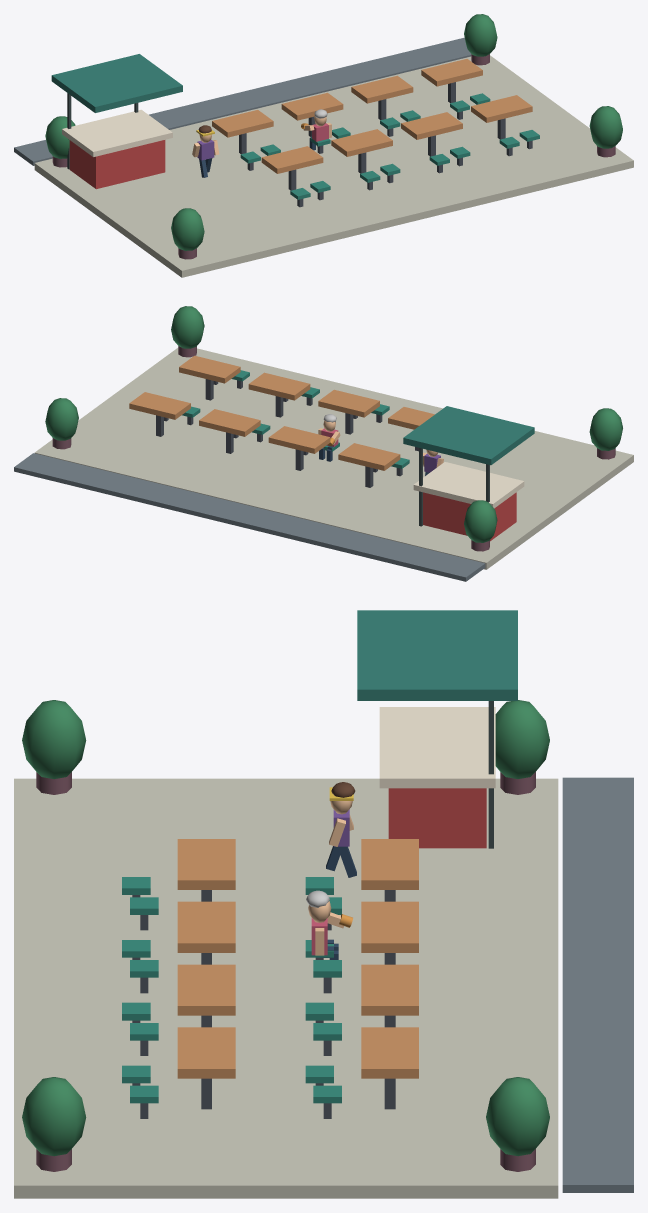
File: shop-prototype.glb
The picture shows the model from 3 angles, top to bottom: view 1: azimuth 30°, elevation 25°; view 2: azimuth 150°, elevation 25°; view 3: azimuth 270°, elevation 25°; orthographic projection. The views are drawn at different scales.
Size of the model in its own units: 10.8 by 2.31 by 6.95.
